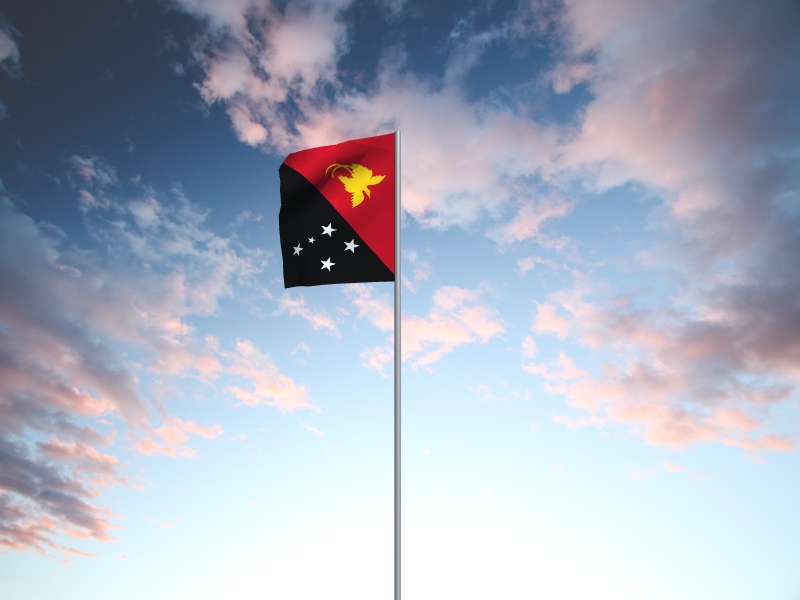pg: (278, 134, 395, 290)
